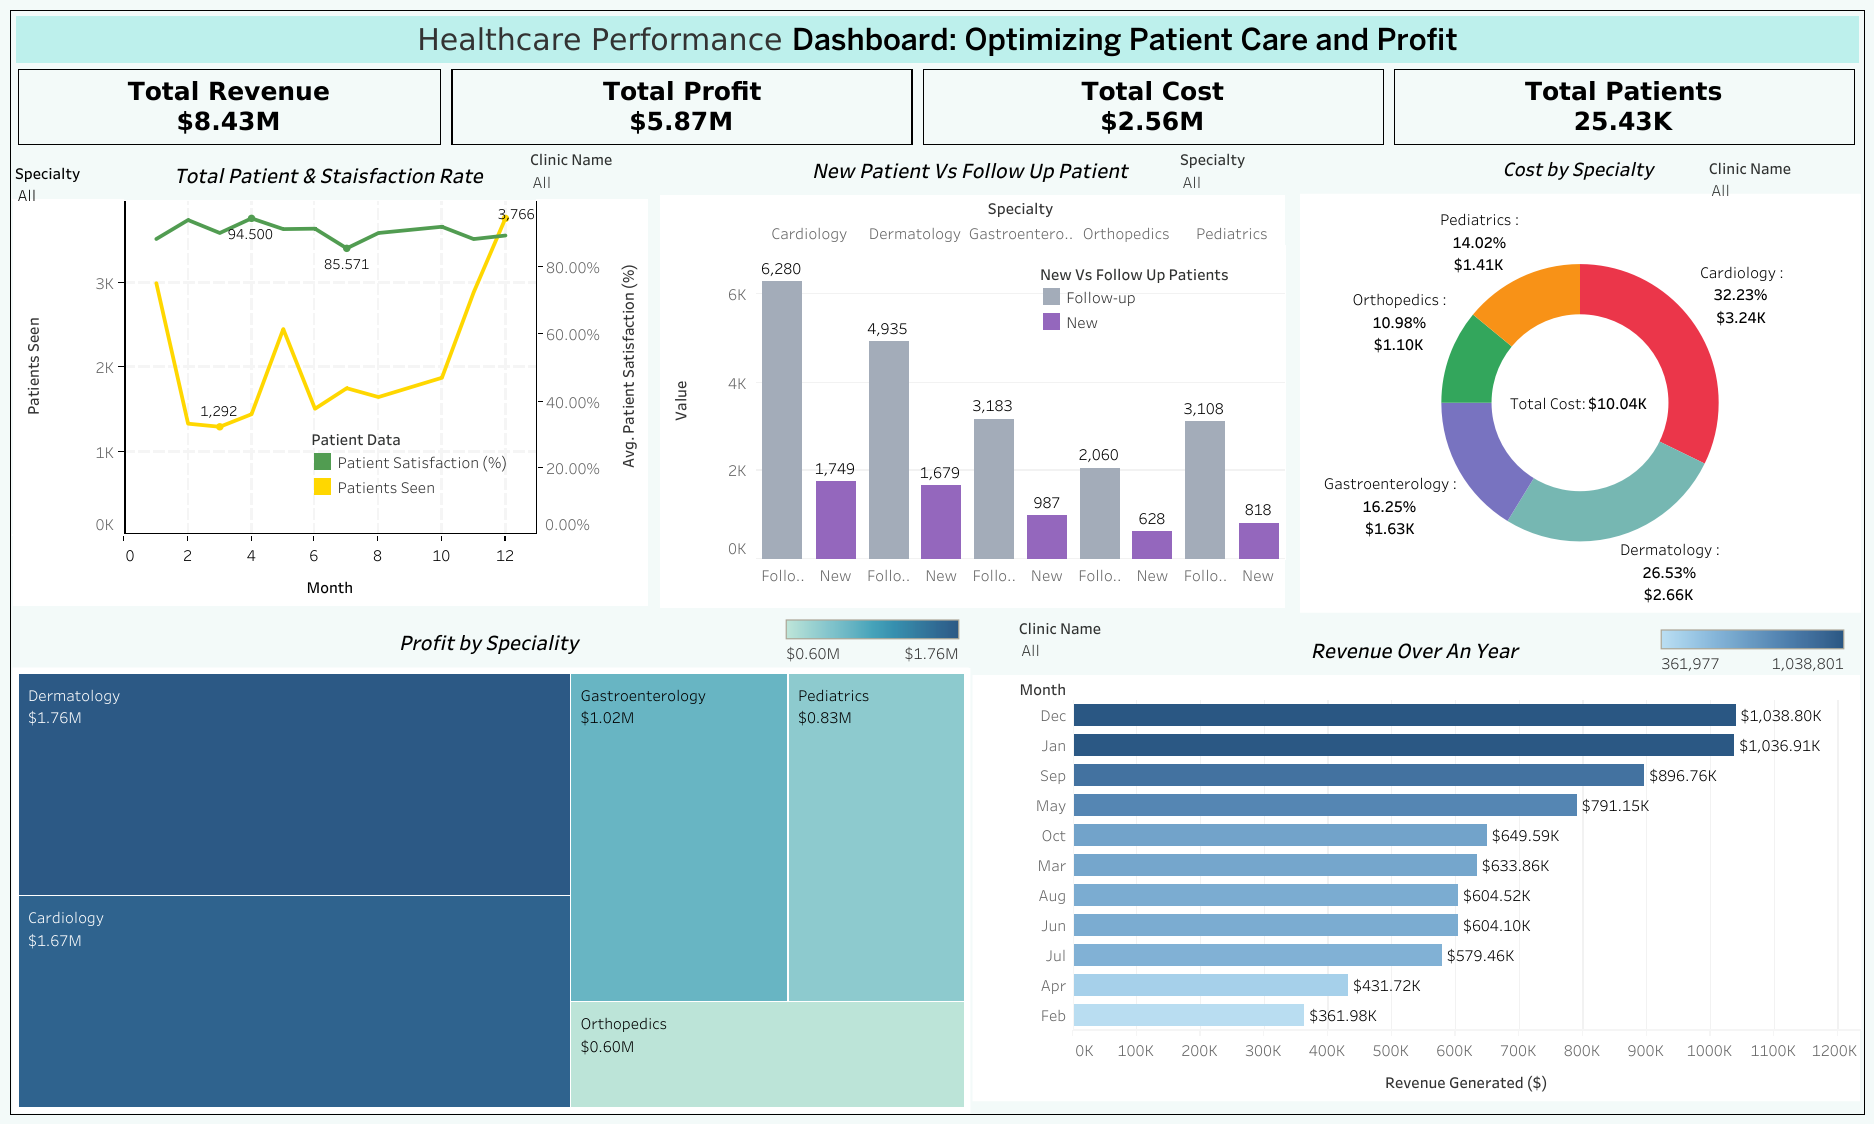

Layout of this report page (visuals, bound fields, positions):
{"tool":"tableau","page":{"name":"Dashboard 2","canvas":[1500,900],"ordinal":0},"visuals":[{"type":"title","box":[9,9,1482,45]},{"type":"worksheet","title":"BAN - Total Revenue","mark":"Automatic","box":[10.4,51,347,69]},{"type":"worksheet","title":"BAN - Total Profit","mark":"Automatic","box":[357.4,51,377,69]},{"type":"worksheet","title":"BAN - Total Cost","mark":"Automatic","box":[734.4,51,377,69]},{"type":"worksheet","title":"BAN - Total Patients","mark":"Text","box":[1111.4,51,377,69]},{"type":"filter","title":"Total Patient & Satisfaction Rate","param":"[federated.1ys4luc15pfwe0104vwvw117xpmk].[none:Office Name:nk]","box":[424,117,106,62]},{"type":"filter","title":"New Vs Follow up Patient","param":"[federated.1ys4luc15pfwe0104vwvw117xpmk (copy)].[none:Specialty:nk]","box":[944,117,95,53]},{"type":"worksheet","title":"New Vs Follow up Patient","mark":"Automatic","cols":["Specialty"],"box":[528,118,500,368]},{"type":"worksheet","title":"Cost By Specialty","mark":"Pie","rows":["Calculation_101049562059186176","Calculation_101049562059186176"],"box":[1040,118,448,371]},{"type":"worksheet","title":"Total Patient & Satisfaction Rate","mark":"Automatic","rows":["Patients Seen","Patient Satisfaction (%)"],"cols":["Month"],"box":[10,122,509,364]},{"type":"filter","title":"Cost By Specialty","param":"[federated.1ys4luc15pfwe0104vwvw117xpmk].[none:Office Name:nk]","box":[1367,124,111,55]},{"type":"filter","title":"Total Patient & Satisfaction Rate","param":"[federated.1ys4luc15pfwe0104vwvw117xpmk].[none:Specialty:nk]","box":[12,128,97,41]},{"type":"legend","title":"New Vs Follow up Patient","param":"[federated.1ys4luc15pfwe0104vwvw117xpmk (copy)].[:Measure Names]","box":[831,208,202,71]},{"type":"legend","title":"Total Patient & Satisfaction Rate","param":"[federated.1ys4luc15pfwe0104vwvw117xpmk].[:Measure Names]","box":[248,340,181,75]},{"type":"legend","title":"Profit by Speciality","param":"[federated.1ys4luc15pfwe0104vwvw117xpmk (copy 4)].[usr:Calculation_3460031606073","box":[625.4,492,146.5,43]},{"type":"filter","title":"Revenue Over an Year","param":"[federated.1ys4luc15pfwe0104vwvw117xpmk (copy 3)].[none:Office Name:nk]","box":[815,492,172,49]},{"type":"worksheet","title":"Profit by Speciality","mark":"Automatic","box":[10.4,496,765,395]},{"type":"legend","title":"Revenue Over an Year","param":"[federated.1ys4luc15pfwe0104vwvw117xpmk (copy 3)].[sum:Revenue Generated ($):qk]","box":[1324.6,500,155.8,49]},{"type":"worksheet","title":"Revenue Over an Year","mark":"Automatic","rows":["Month"],"cols":["Revenue Generated ($)"],"box":[777.7,502,710.8,390]}]}

Visuals, with their boxes in screenshot pixels (x1, y1, x2, y2), scaled from the page's 1500x900 canvas onto the 1874x1124 screenshot:
title: x1=11 y1=11 x2=1863 y2=67
"BAN - Total Revenue" worksheet: x1=13 y1=64 x2=447 y2=150
"BAN - Total Profit" worksheet: x1=447 y1=64 x2=918 y2=150
"BAN - Total Cost" worksheet: x1=918 y1=64 x2=1389 y2=150
"BAN - Total Patients" worksheet (Text marks): x1=1389 y1=64 x2=1860 y2=150
"Total Patient & Satisfaction Rate" filter: x1=530 y1=146 x2=662 y2=224
"New Vs Follow up Patient" filter: x1=1179 y1=146 x2=1298 y2=212
"New Vs Follow up Patient" worksheet: x1=660 y1=147 x2=1284 y2=607
"Cost By Specialty" worksheet (Pie marks): x1=1299 y1=147 x2=1859 y2=611
"Total Patient & Satisfaction Rate" worksheet: x1=12 y1=152 x2=648 y2=607
"Cost By Specialty" filter: x1=1708 y1=155 x2=1847 y2=224
"Total Patient & Satisfaction Rate" filter: x1=15 y1=160 x2=136 y2=211
"New Vs Follow up Patient" legend: x1=1038 y1=260 x2=1291 y2=348
"Total Patient & Satisfaction Rate" legend: x1=310 y1=425 x2=536 y2=518
"Profit by Speciality" legend: x1=781 y1=614 x2=964 y2=668
"Revenue Over an Year" filter: x1=1018 y1=614 x2=1233 y2=676
"Profit by Speciality" worksheet: x1=13 y1=619 x2=969 y2=1113
"Revenue Over an Year" legend: x1=1655 y1=624 x2=1850 y2=686
"Revenue Over an Year" worksheet: x1=972 y1=627 x2=1860 y2=1114
